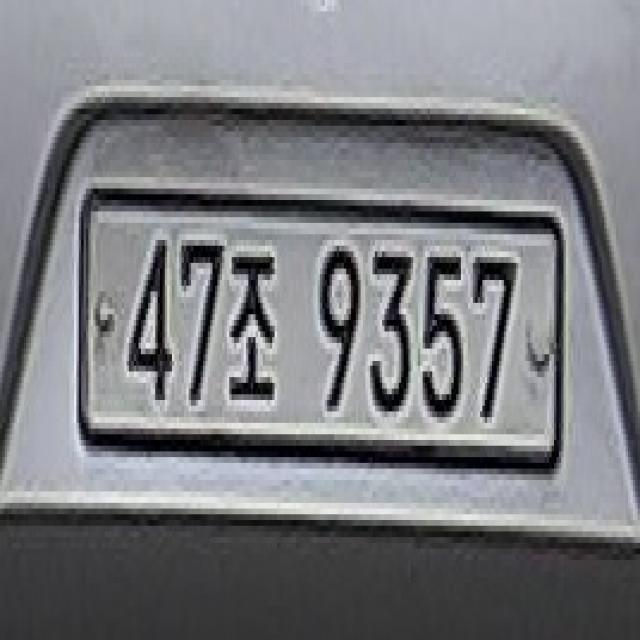3: (368, 240, 416, 423)
4: (119, 230, 174, 420)
5: (421, 241, 465, 427)
7: (469, 243, 519, 438), (176, 232, 224, 428)
9: (310, 237, 363, 417)
jo: (226, 240, 284, 424)
license_plate: (68, 163, 574, 506)
